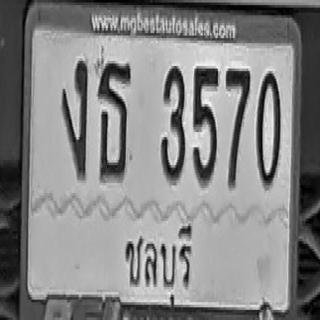A07: (61, 58, 87, 178)
A24: (98, 61, 131, 180)
N00: (256, 69, 280, 188)
N03: (161, 64, 185, 183)
N05: (193, 66, 218, 185)
N07: (225, 66, 250, 188)
P13: (116, 215, 197, 311)
